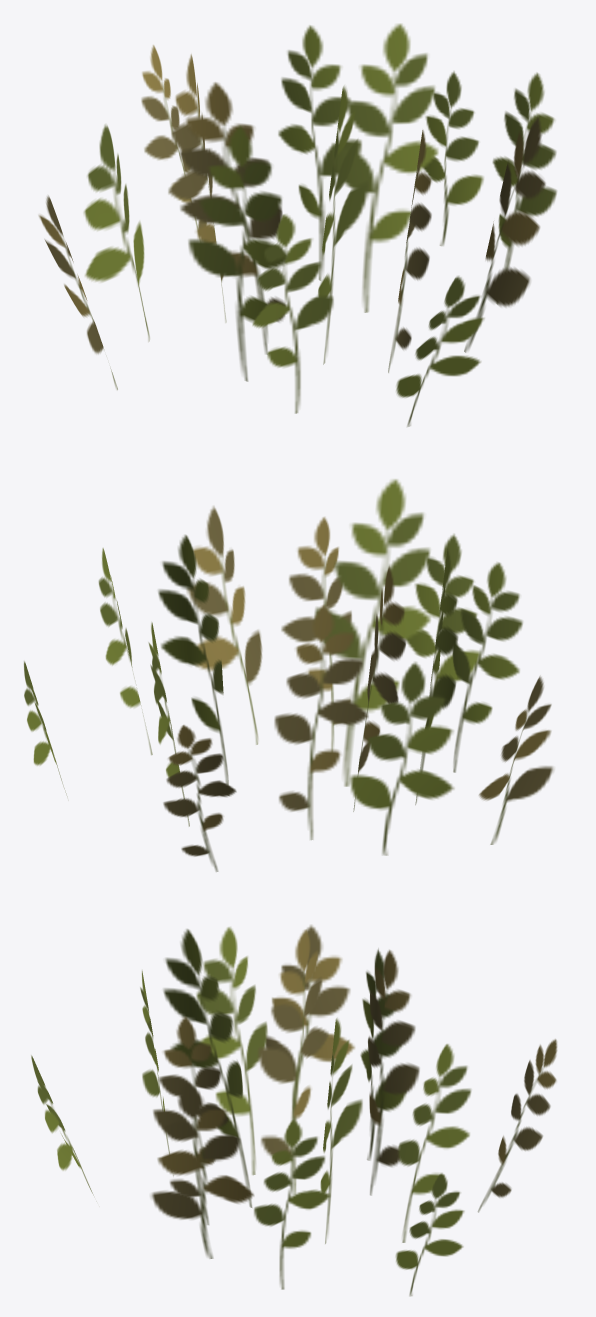
The model's file is Green_Patch_3.glb.
3 renders of one model, top to bottom at view 1: azimuth 30°, elevation 25°; view 2: azimuth 150°, elevation 25°; view 3: azimuth 270°, elevation 25°, orthographic. The views are drawn at different scales.
Parts seen in each view (by area): view 1: Green_Patch_3; view 2: Green_Patch_3; view 3: Green_Patch_3.
Part boxes in pixels (box(x1,y1,x2,y2)): Green_Patch_3: box(38, 23, 556, 426); Green_Patch_3: box(24, 479, 553, 871); Green_Patch_3: box(31, 925, 557, 1296).
Size of the model in its own units: 0.9673 by 0.5766 by 1.03.
Materials: 1 (1 with a texture image).
